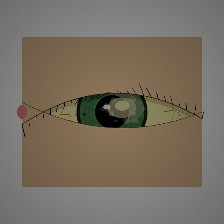corneal_ulcer: (98, 89, 145, 127)
